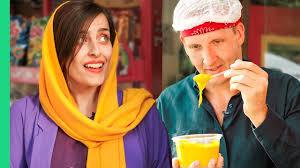middle_eastern_Female: (56, 14, 117, 87)
